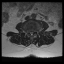CCS_normal: (31, 30, 32, 37)
LFS_severe_stenosis: (34, 29, 35, 34)
LLS_stenosis: (32, 29, 34, 34)
RFS_severe_stenosis: (27, 29, 29, 34)
RLS_severe_stenosis: (29, 29, 31, 35)
